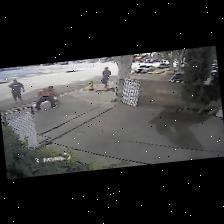person: (35, 86, 58, 112), (8, 80, 23, 104), (101, 67, 109, 88)
